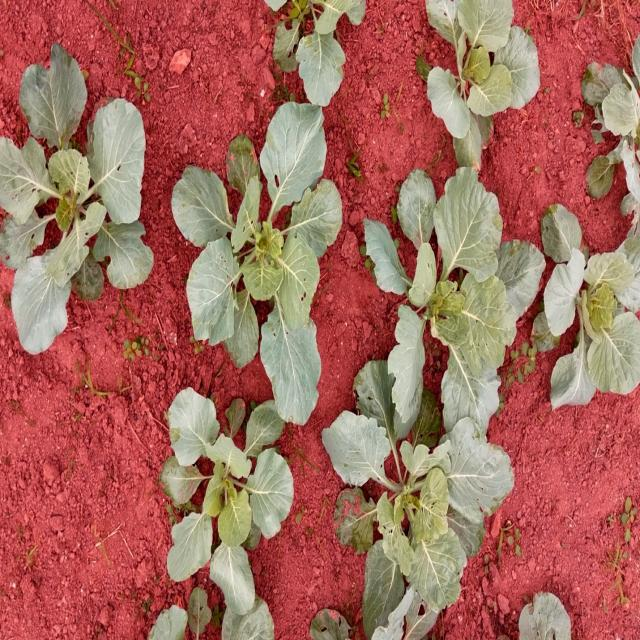Cabbage: (311, 329, 516, 640), (166, 101, 346, 401), (346, 154, 529, 427), (0, 63, 158, 357), (156, 399, 310, 600), (526, 210, 640, 414), (411, 0, 543, 148), (248, 0, 376, 108), (578, 54, 640, 212), (112, 598, 268, 640), (454, 595, 597, 640), (293, 612, 470, 640)
